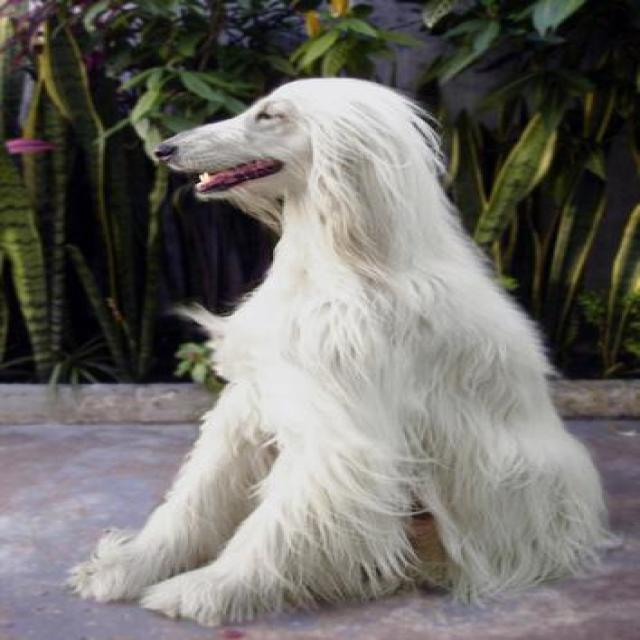afghan_hound: (56, 73, 626, 631)
